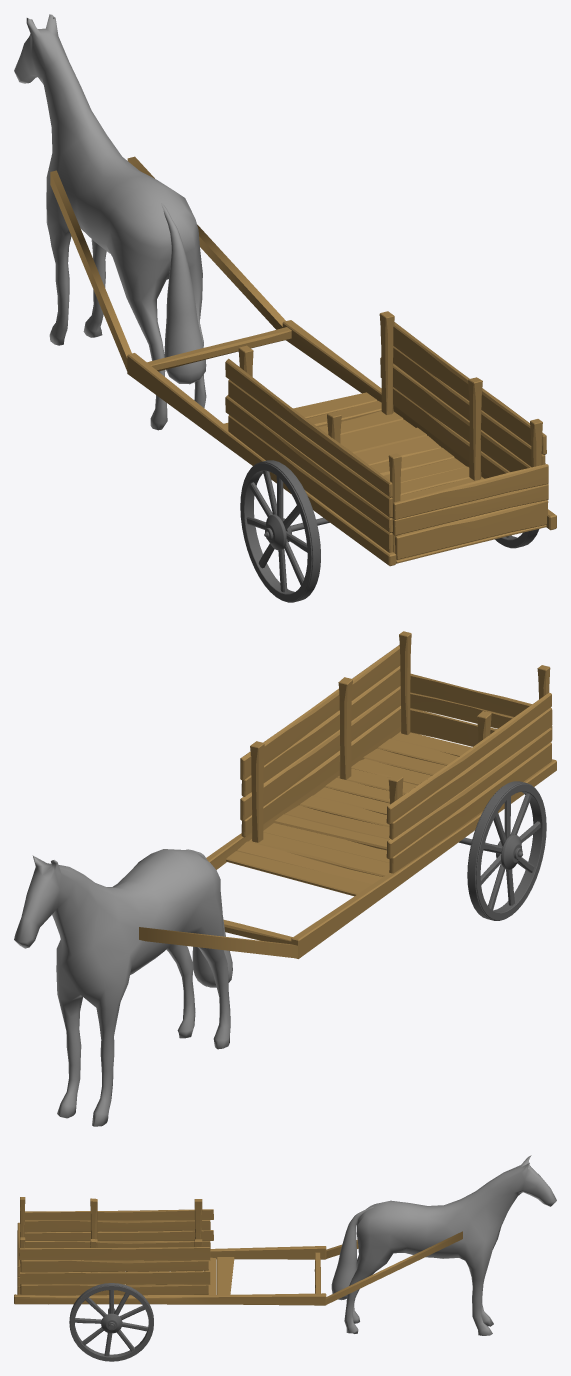
File: _orse Car.fbx
3 renders of one model, top to bottom at view 1: azimuth 30°, elevation 25°; view 2: azimuth 150°, elevation 25°; view 3: azimuth 270°, elevation 25°, orthographic. The views are drawn at different scales.
Parts seen in each view (by area): view 1: carrage:polySurface8, horse; view 2: carrage:polySurface8, horse; view 3: carrage:polySurface8, horse.
Part boxes in pixels (left/top/right/bottom): carrage:polySurface8: left=50, top=156, right=556, bottom=602; horse: left=14, top=14, right=206, bottom=430; carrage:polySurface8: left=139, top=631, right=556, bottom=958; horse: left=14, top=849, right=232, bottom=1126; carrage:polySurface8: left=14, top=1197, right=462, bottom=1361; horse: left=331, top=1155, right=556, bottom=1335.
Bounding box in the file's own units: 319 × 352 × 1003.
